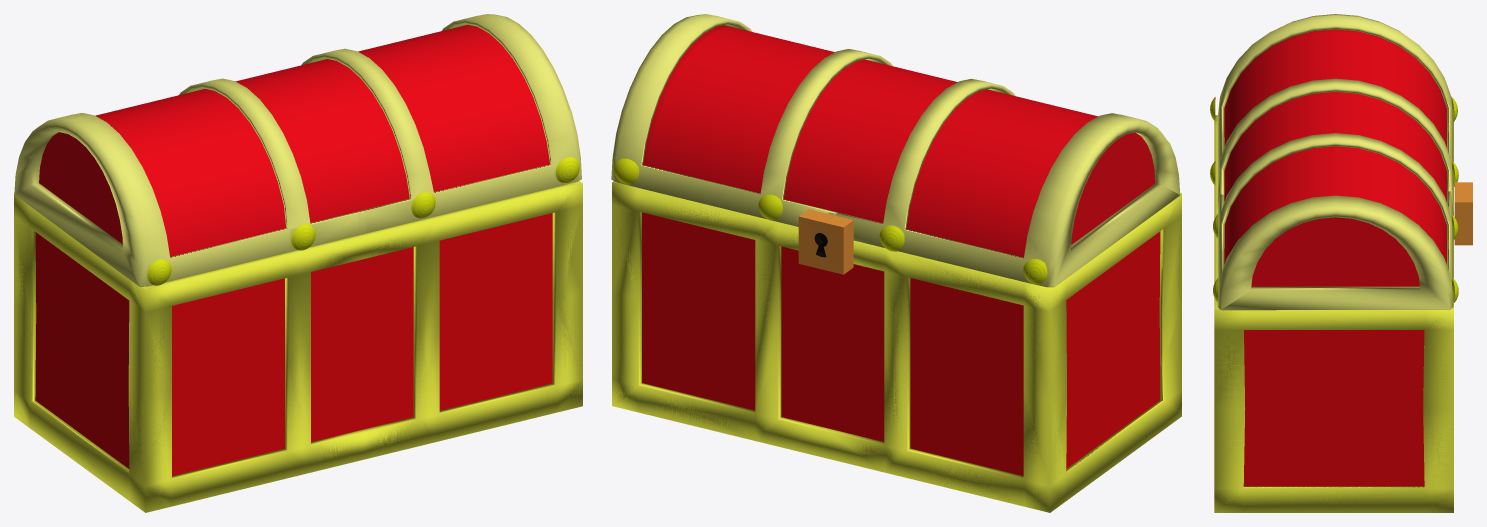
The model's file is chestv2.gltf.
3 renders of one model, left to right at view 1: azimuth 30°, elevation 25°; view 2: azimuth 150°, elevation 25°; view 3: azimuth 270°, elevation 25°, orthographic. The views are drawn at different scales.
Parts seen in each view (by area): view 1: BOX, Cube; view 2: BOX, Cube; view 3: Cube, BOX.
Part boxes in pixels (x1=…): BOX: x1=14, y1=181, x2=582, y2=512; Cube: x1=14, y1=14, x2=581, y2=286; BOX: x1=612, y1=181, x2=1181, y2=512; Cube: x1=611, y1=14, x2=1180, y2=287; Cube: x1=1210, y1=14, x2=1472, y2=310; BOX: x1=1214, y1=115, x2=1453, y2=512.
Size of the model in its own units: 4.31 by 3.12 by 2.43.
